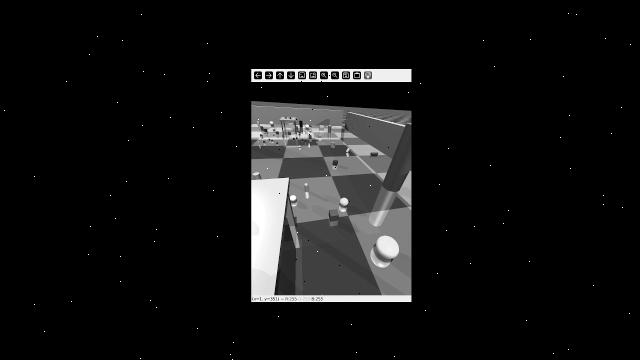cilindro: (382, 113, 414, 193), (369, 150, 382, 157), (253, 170, 262, 180), (256, 120, 261, 131), (304, 183, 309, 192), (299, 120, 303, 128), (347, 147, 351, 154), (328, 125, 332, 132), (261, 124, 264, 131), (256, 140, 260, 145), (291, 136, 295, 140), (282, 134, 285, 138), (315, 139, 319, 142), (305, 129, 307, 134), (305, 138, 307, 143), (277, 134, 279, 139), (260, 133, 263, 136), (263, 141, 266, 144), (287, 115, 289, 117)
